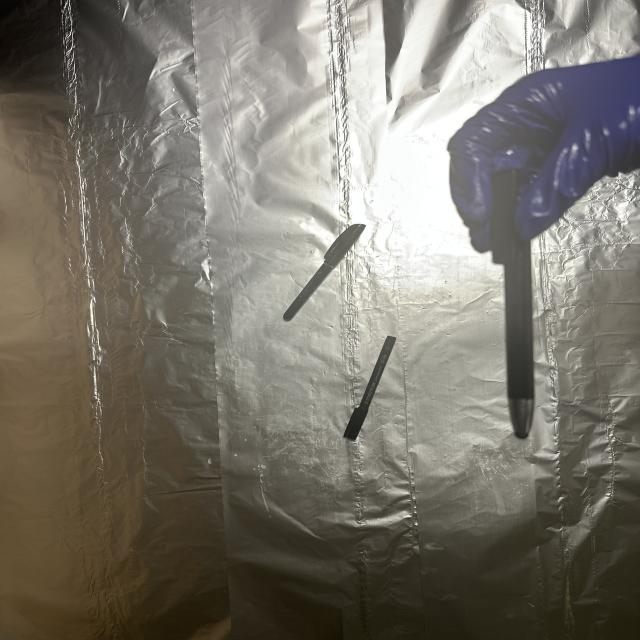gloves_contaminated: (448, 55, 640, 252)
